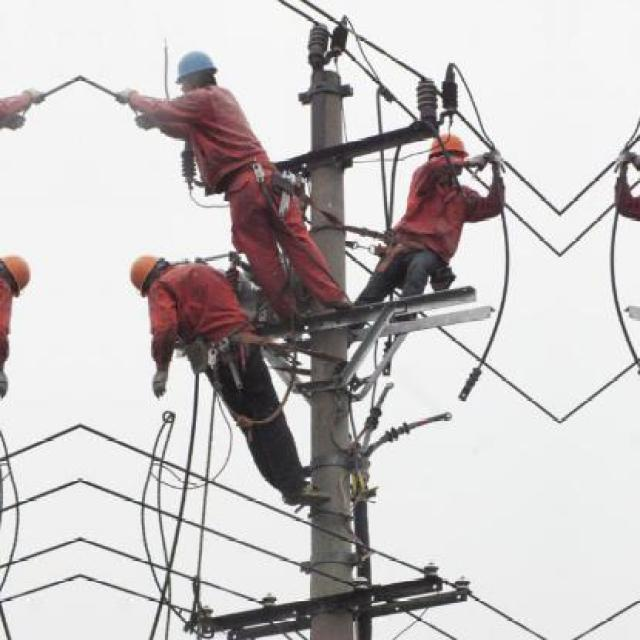helmet: (167, 45, 220, 103), (123, 246, 179, 299), (0, 246, 39, 300), (423, 133, 467, 178)
